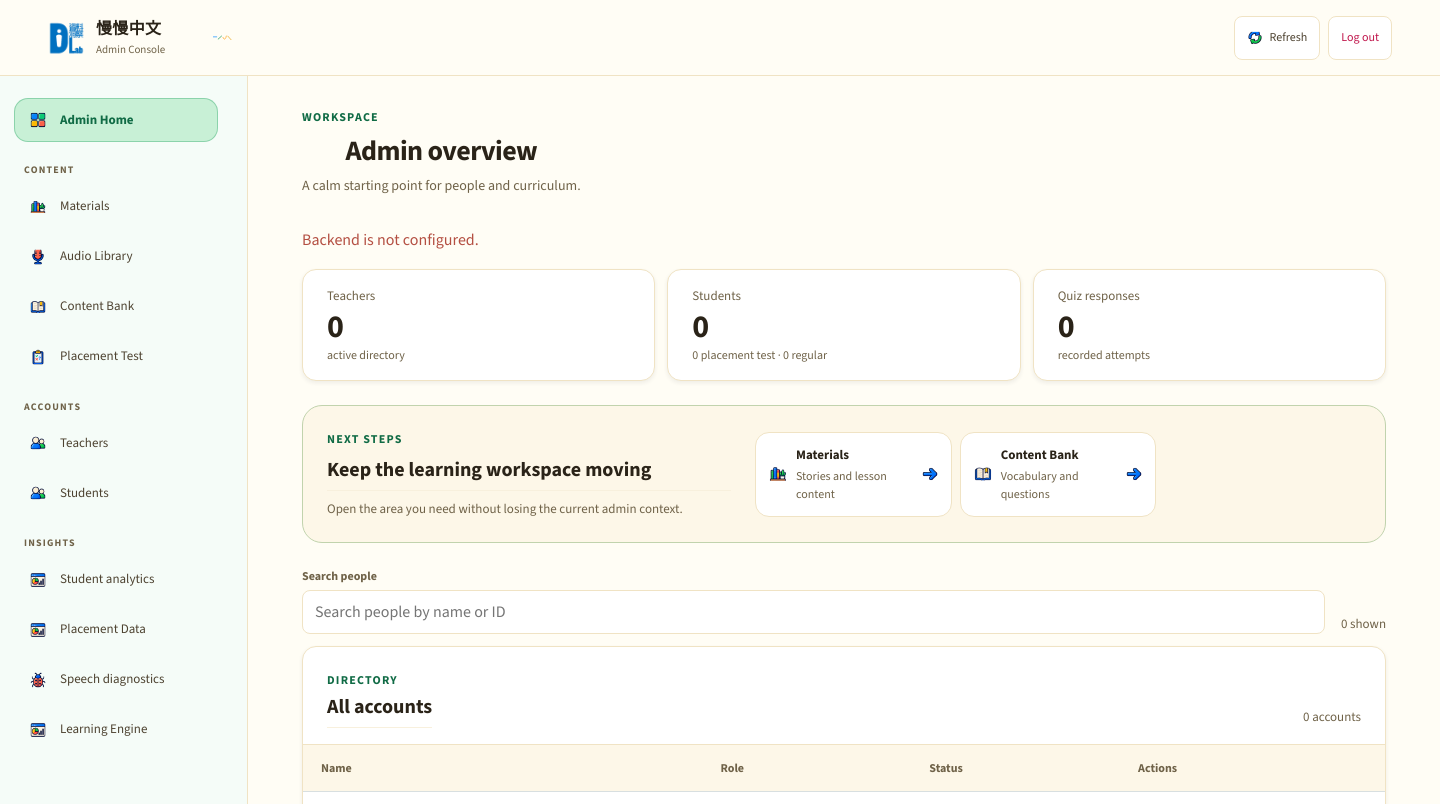
Test: admin-only diagnostic navigation › shows the admin overview shortcuts and keeps them connected to navigation
Expected: the heading "Admin overview" is shown, [346,132,537,169]
Expected: the button "Student analytics" is shown, [14,558,218,602]
Click the button "Materials Stories and lesson content": x=853, y=474 [755,432,952,517]
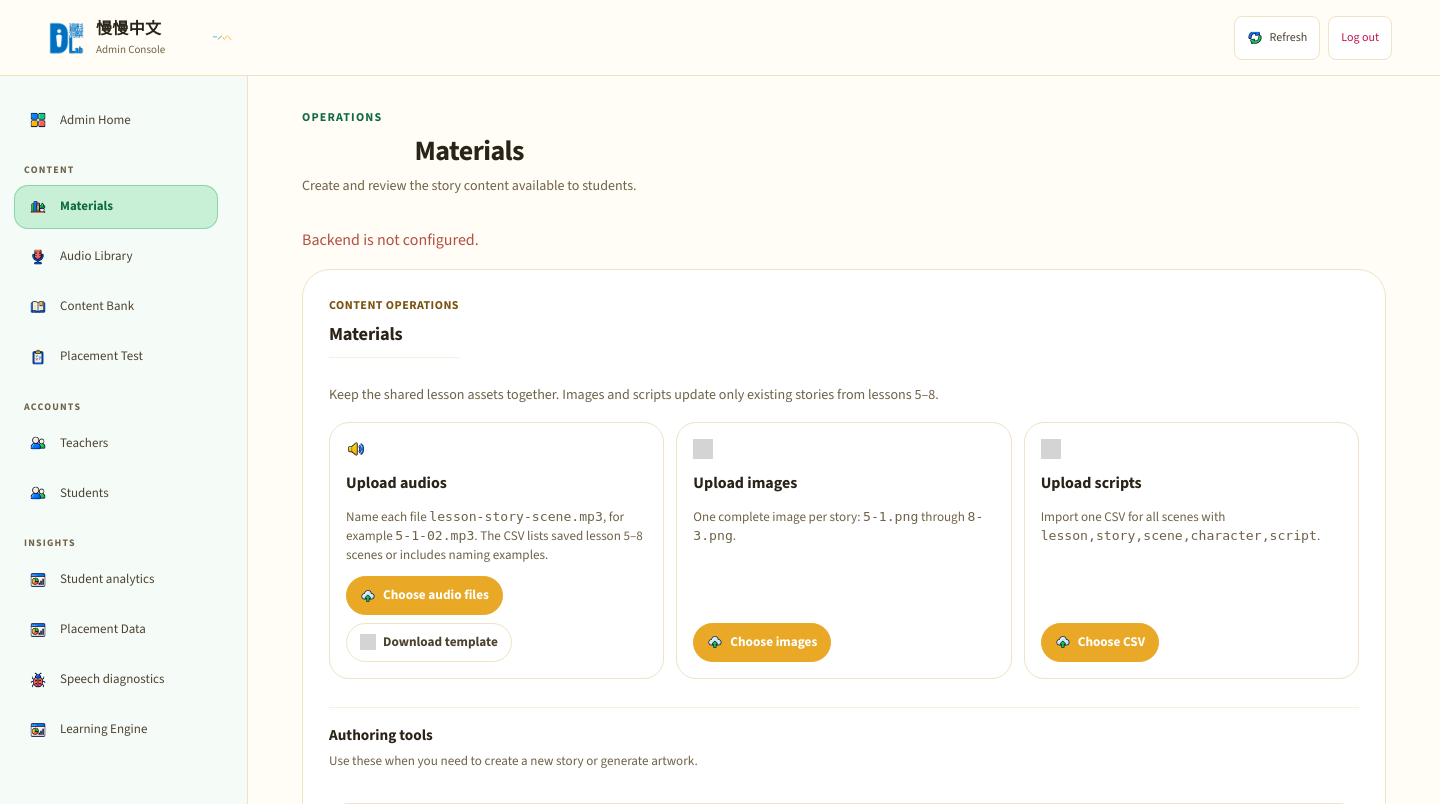
Expected: the 1st heading "Materials" is shown, [415,132,524,169]
